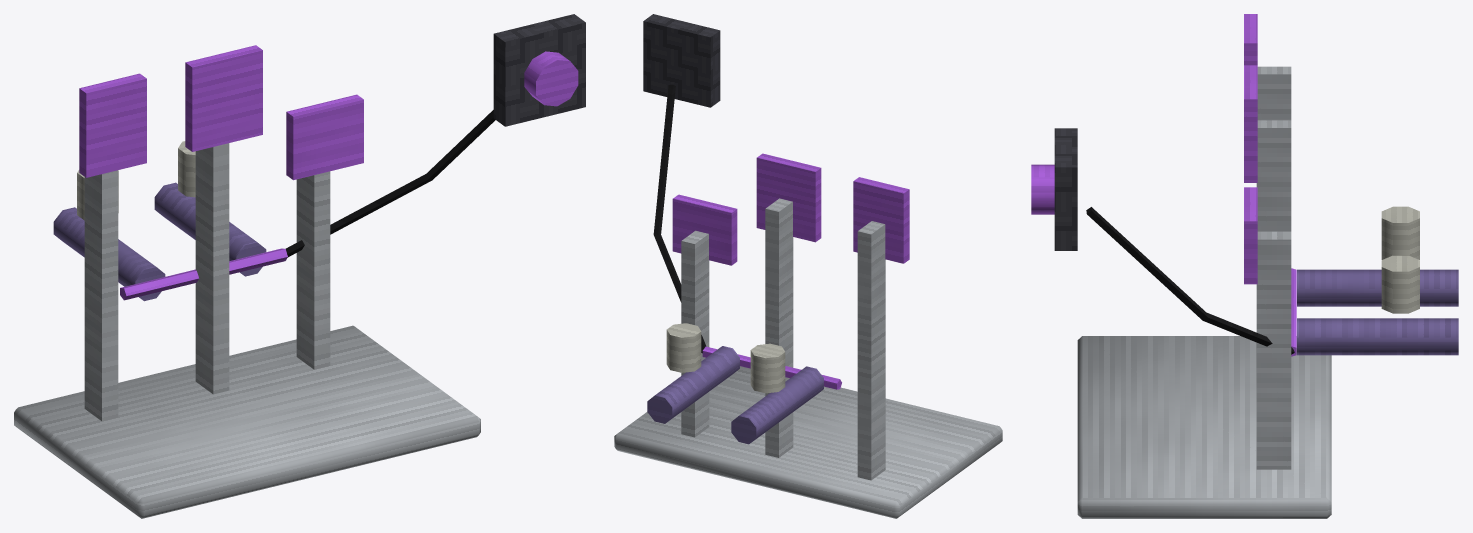
Rendered from balanco_freio_n5.glb.
The picture shows the model from 3 angles, left to right: view 1: azimuth 30°, elevation 25°; view 2: azimuth 150°, elevation 25°; view 3: azimuth 270°, elevation 25°; orthographic projection. The views are drawn at different scales.
Parts seen in each view (by area): view 1: balanco_freio_n5; view 2: balanco_freio_n5; view 3: balanco_freio_n5.
Boxes of the visible parts, bbox=[...] form: balanco_freio_n5: bbox=[14, 14, 585, 518]; balanco_freio_n5: bbox=[614, 14, 1002, 518]; balanco_freio_n5: bbox=[1031, 14, 1458, 518].
Bounding box in the file's own units: 0.43 × 0.38 × 0.37.
Materials: 3 (3 with a texture image).
